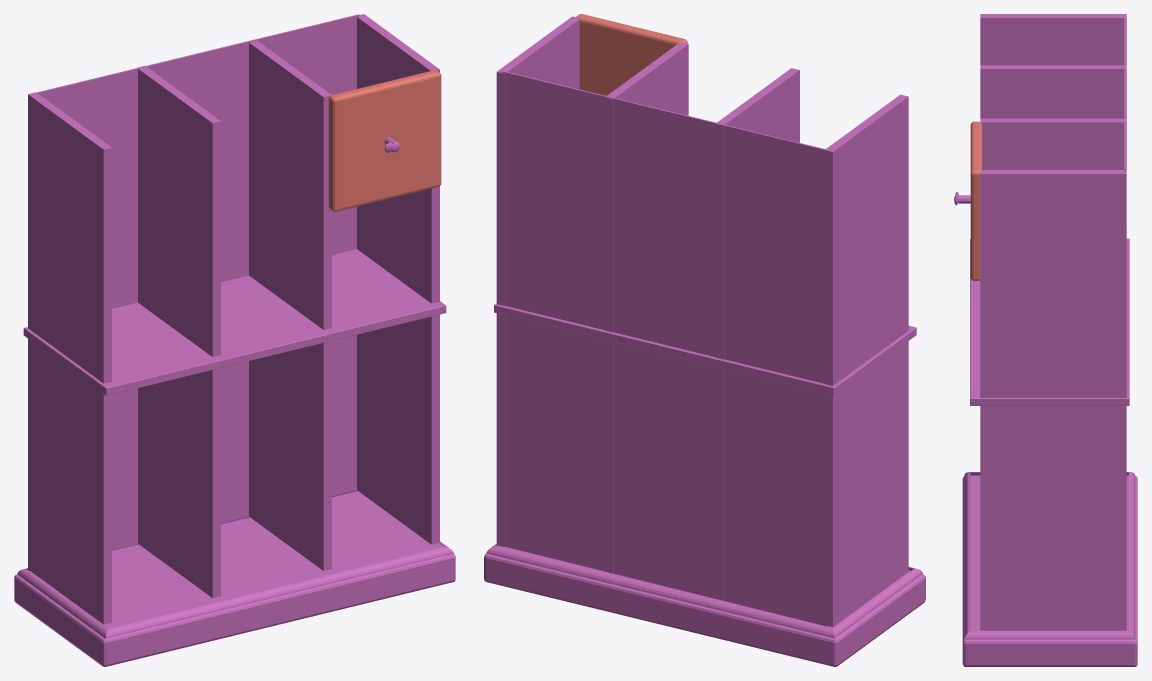
Rendered from commode.dae.
3 renders of one model, left to right at view 1: azimuth 30°, elevation 25°; view 2: azimuth 150°, elevation 25°; view 3: azimuth 270°, elevation 25°, orthographic. The views are drawn at different scales.
Visible parts, largest first — view 1: Rectangle1, Rectangle0, ChamferB14, ChamferB11_ChamferB12_ChamferB13_ChamferB15, ChamferBox_ChamferBo0_ChamferBo1_ChamferBo2_ChamferBo3_Chamf, Loft05_Loft03_Loft06_Loft07_Loft04; view 2: Rectangle0, Rectangle1, ChamferB14, ChamferBox_ChamferBo0_ChamferBo1_ChamferBo2_ChamferBo3_Chamf, Loft05_Loft03_Loft06_Loft07_Loft04, ChamferB11_ChamferB12_ChamferB13_ChamferB15; view 3: Rectangle1, ChamferB14, Loft05_Loft03_Loft06_Loft07_Loft04, ChamferB11_ChamferB12_ChamferB13_ChamferB15, ChamferBox_ChamferBo0_ChamferBo1_ChamferBo2_ChamferBo3_Chamf, Rectangle0.
Part boxes in pixels (<box>): Rectangle1: <box>28,14,439,624</box>; Rectangle0: <box>37,14,359,550</box>; ChamferB14: <box>14,493,455,666</box>; ChamferB11_ChamferB12_ChamferB13_ChamferB15: <box>23,249,446,395</box>; ChamferBox_ChamferBo0_ChamferBo1_ChamferBo2_ChamferBo3_Chamf: <box>328,70,441,211</box>; Loft05_Loft03_Loft06_Loft07_Loft04: <box>17,490,453,638</box>; Rectangle0: <box>502,71,827,626</box>; Rectangle1: <box>496,16,908,627</box>; ChamferB14: <box>484,547,925,666</box>; ChamferBox_ChamferBo0_ChamferBo1_ChamferBo2_ChamferBo3_Chamf: <box>576,14,687,95</box>; Loft05_Loft03_Loft06_Loft07_Loft04: <box>486,544,923,638</box>; ChamferB11_ChamferB12_ChamferB13_ChamferB15: <box>494,303,916,395</box>; Rectangle1: <box>980,14,1126,630</box>; ChamferB14: <box>962,476,1137,666</box>; Loft05_Loft03_Loft06_Loft07_Loft04: <box>964,472,1135,639</box>; ChamferB11_ChamferB12_ChamferB13_ChamferB15: <box>970,238,1129,405</box>; ChamferBox_ChamferBo0_ChamferBo1_ChamferBo2_ChamferBo3_Chamf: <box>970,121,982,280</box>; Rectangle0: <box>1124,18,1125,171</box>.
Size of the model in its own units: 4.17 by 1.95 by 5.75.
